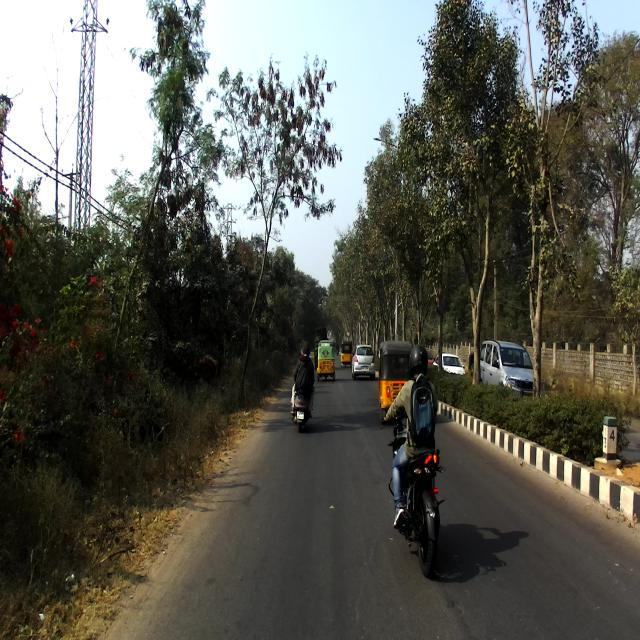motorcycle ahead at: (403, 437, 443, 573)
